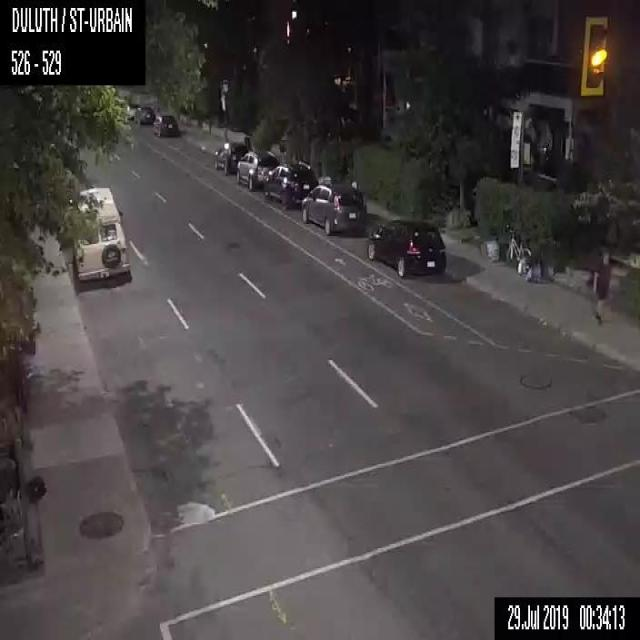pedestrian: (590, 250, 611, 322)
vehicle: (71, 185, 132, 292), (364, 216, 446, 276), (302, 182, 366, 237), (262, 160, 318, 208), (236, 148, 278, 190), (213, 140, 248, 174), (152, 113, 179, 136), (134, 105, 154, 125)
